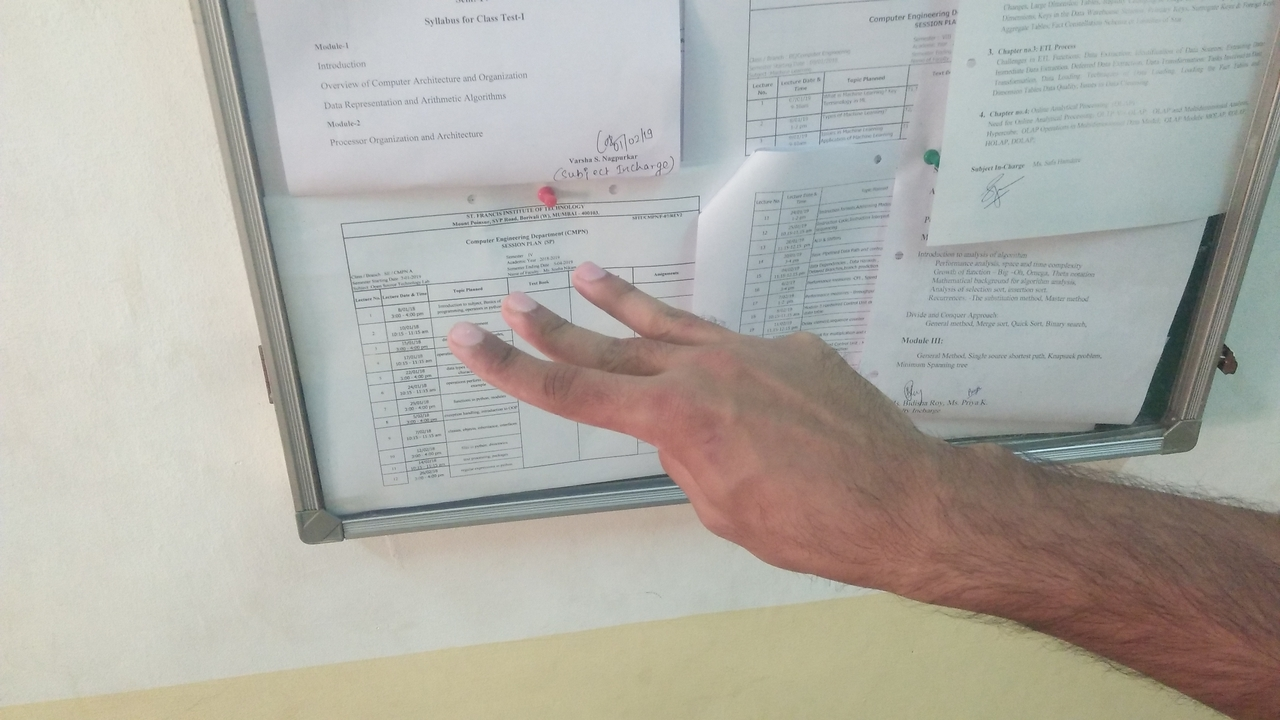fingertip: (562, 248, 618, 296), (436, 319, 491, 352), (499, 289, 539, 326)
